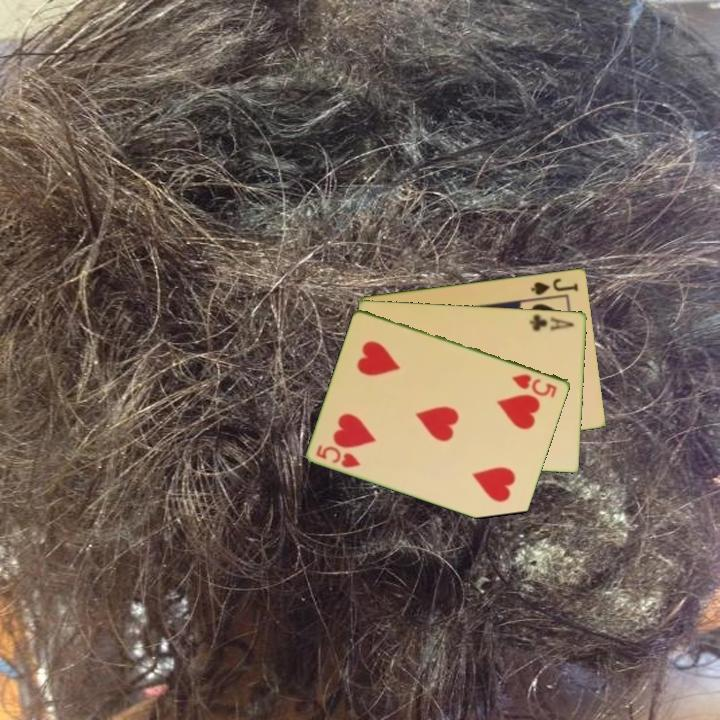5h: (508, 370, 560, 400), (313, 441, 363, 471)
Ac: (526, 310, 577, 334)
Js: (528, 274, 581, 298)
